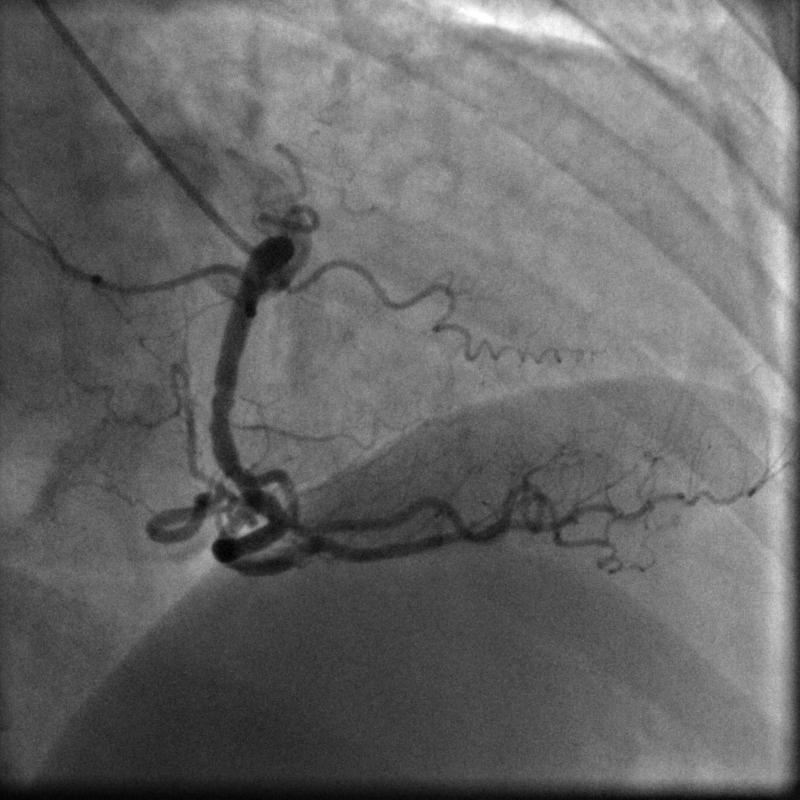Stenosis: (215, 458, 275, 495)
